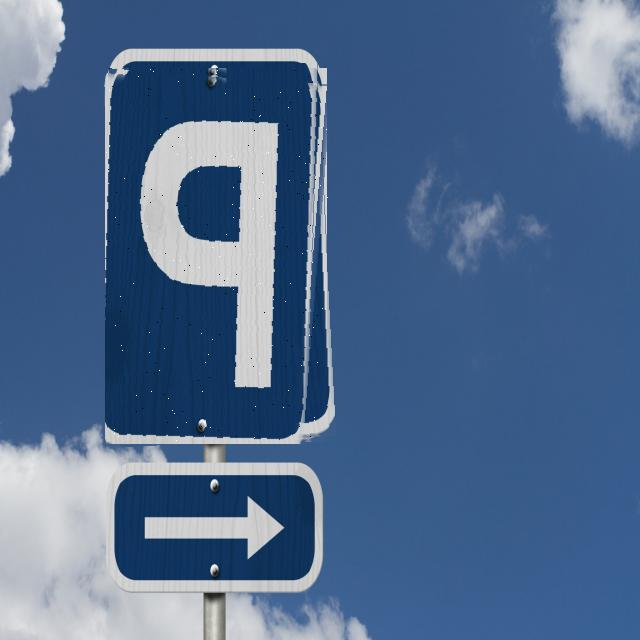parking: (105, 66, 332, 444)
